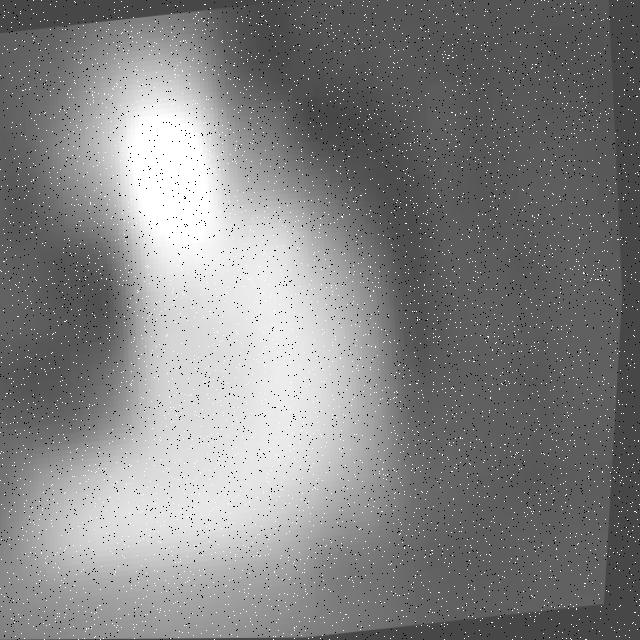person: (1, 1, 443, 594)
